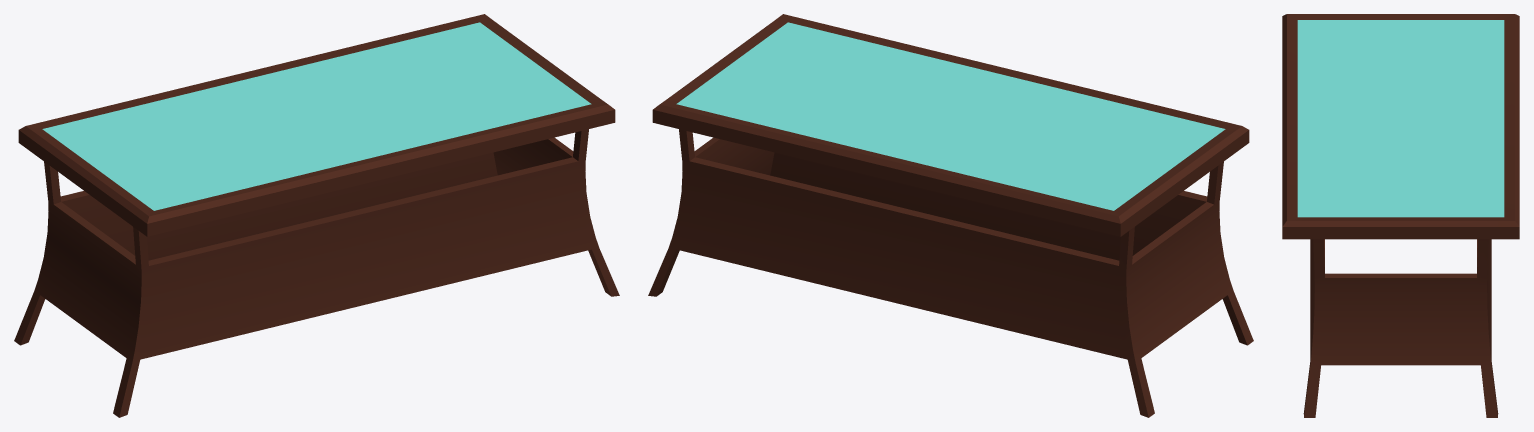
The model's file is GarBigTable.fbx.
The picture shows the model from 3 angles, left to right: view 1: azimuth 30°, elevation 25°; view 2: azimuth 150°, elevation 25°; view 3: azimuth 270°, elevation 25°; orthographic projection. The views are drawn at different scales.
Visible parts, largest first — view 1: BigTable; view 2: BigTable; view 3: BigTable.
Part boxes in pixels (x1,y1,x2,y2): BigTable: [14, 14, 619, 417]; BigTable: [648, 14, 1253, 417]; BigTable: [1282, 14, 1519, 417].
Size of the model in its own units: 209 by 80.95 by 92.78.
